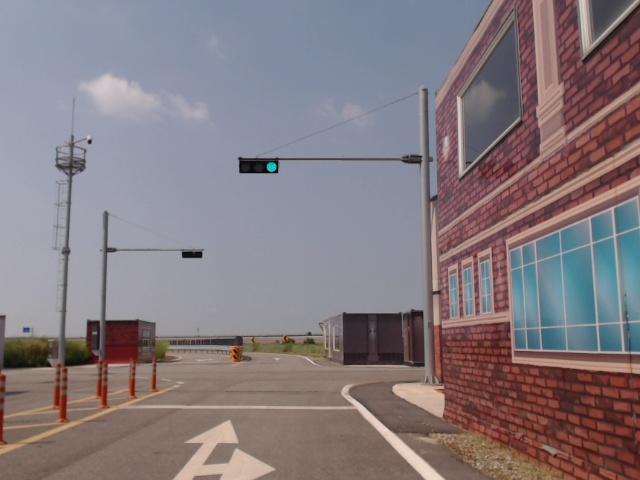green_3: (239, 160, 279, 173)
